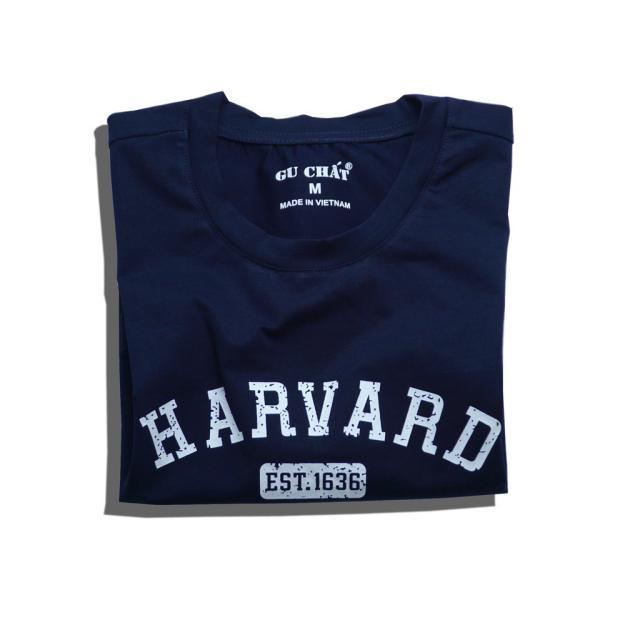Shirt: (99, 86, 518, 506)
